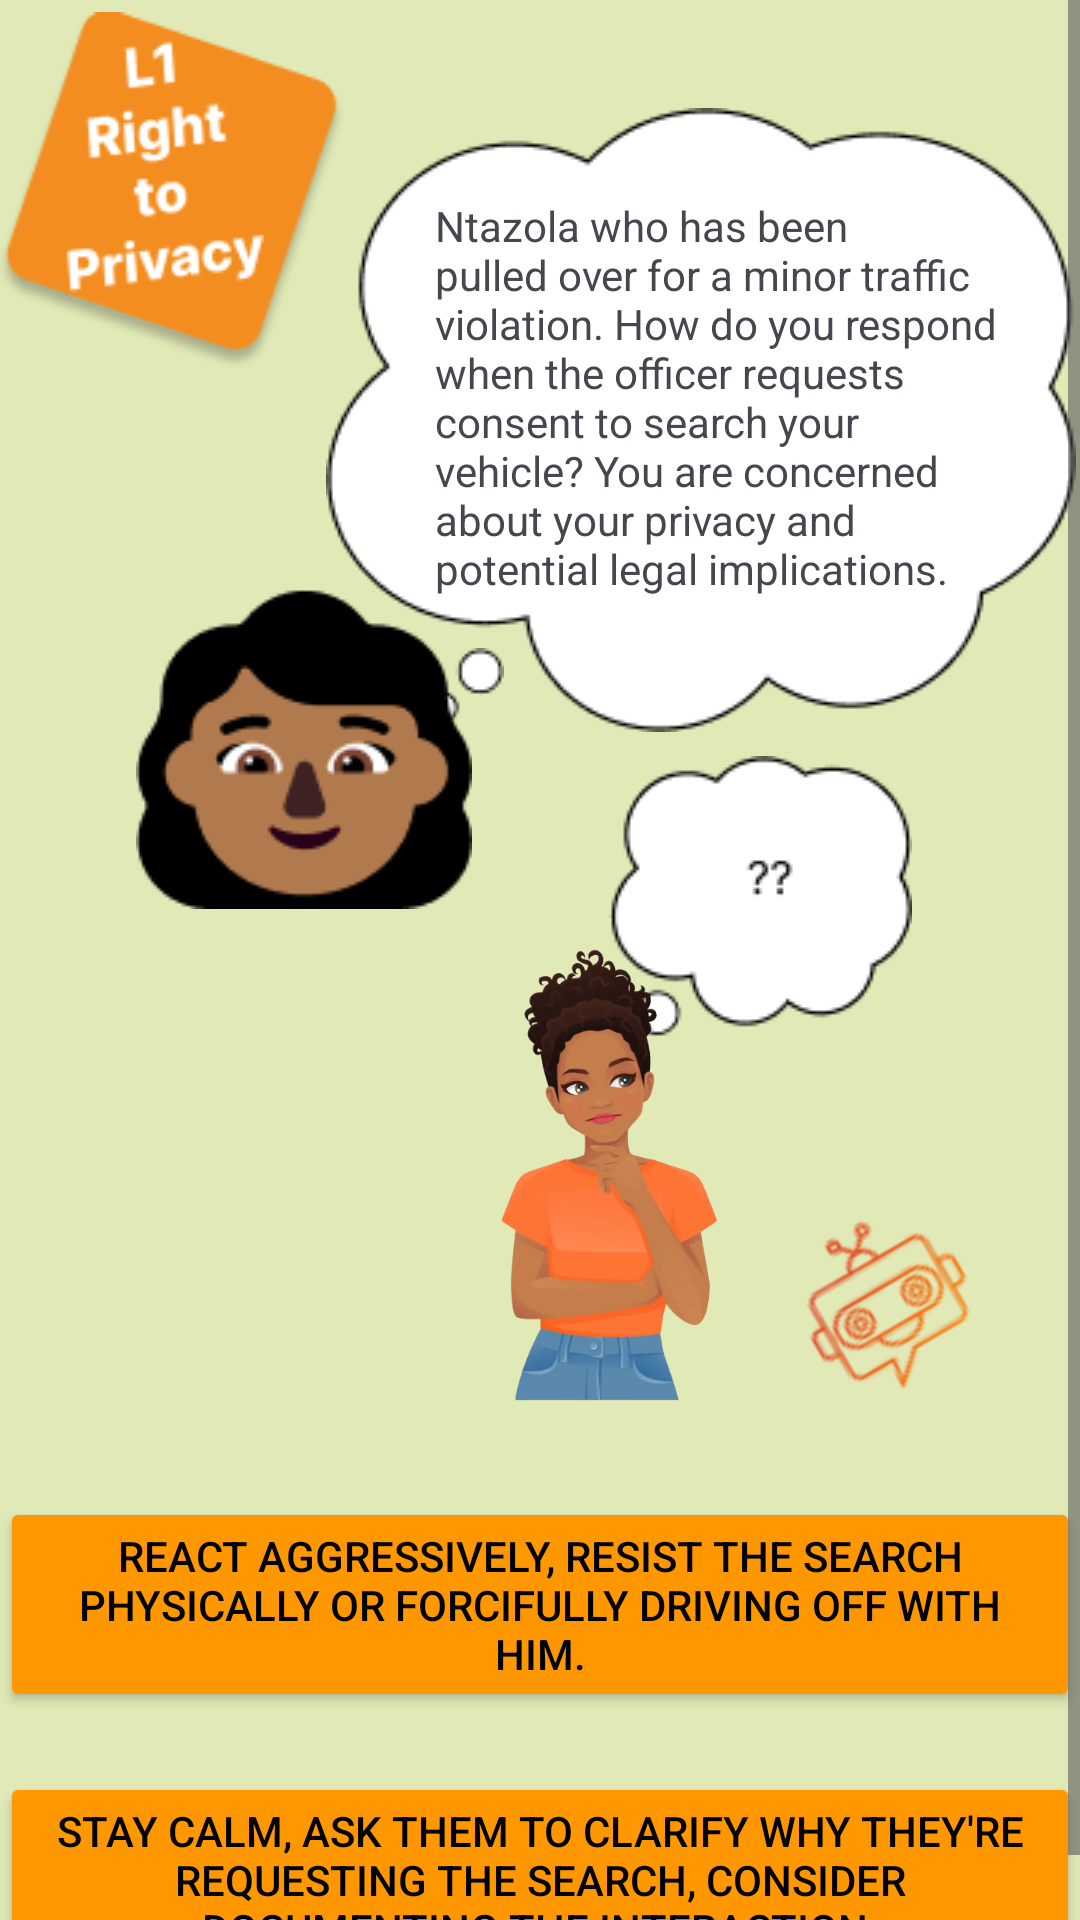

Named icons in this screenshot (1080 × 1920) and their centers, point (x, y):
questiontag: point (761, 891)
